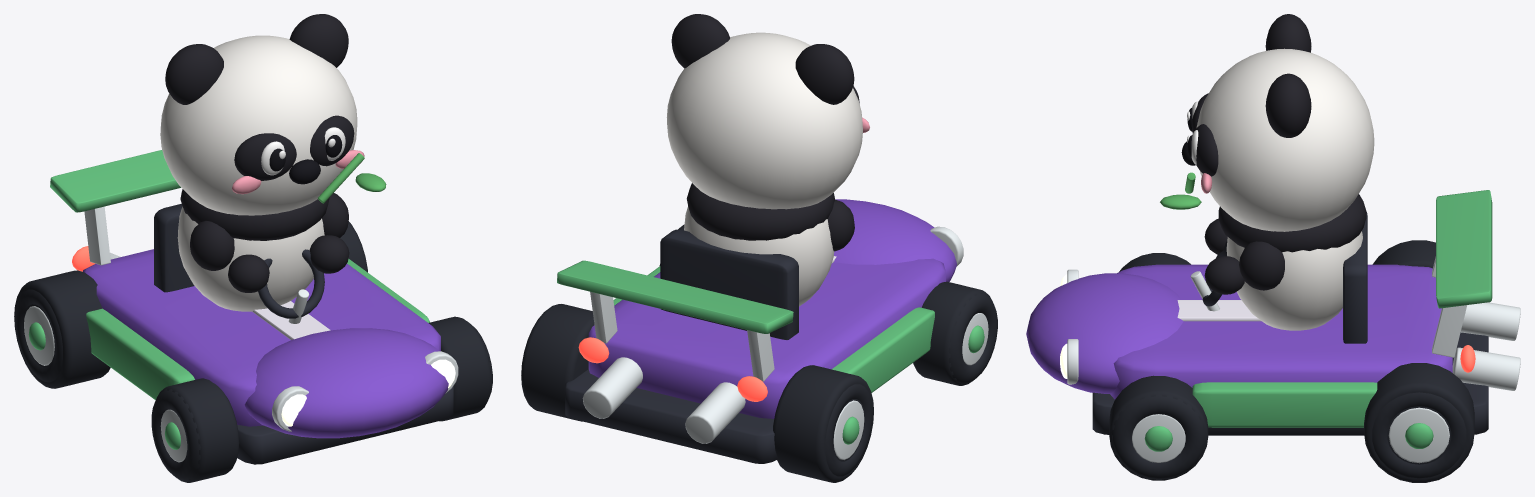
Rendered from pip.glb.
3 views of the same model, side by side, from view 1: azimuth 30°, elevation 25°; view 2: azimuth 150°, elevation 25°; view 3: azimuth 270°, elevation 25° (orthographic).
Parts seen in each view (by area): view 1: PipThePanda; view 2: PipThePanda; view 3: PipThePanda.
Boxes of the visible parts, bbox=[...] form: PipThePanda: bbox=[14, 14, 492, 482]; PipThePanda: bbox=[521, 14, 997, 482]; PipThePanda: bbox=[1026, 14, 1520, 482].
Size of the model in its own units: 3.84 by 4.22 by 5.18.
